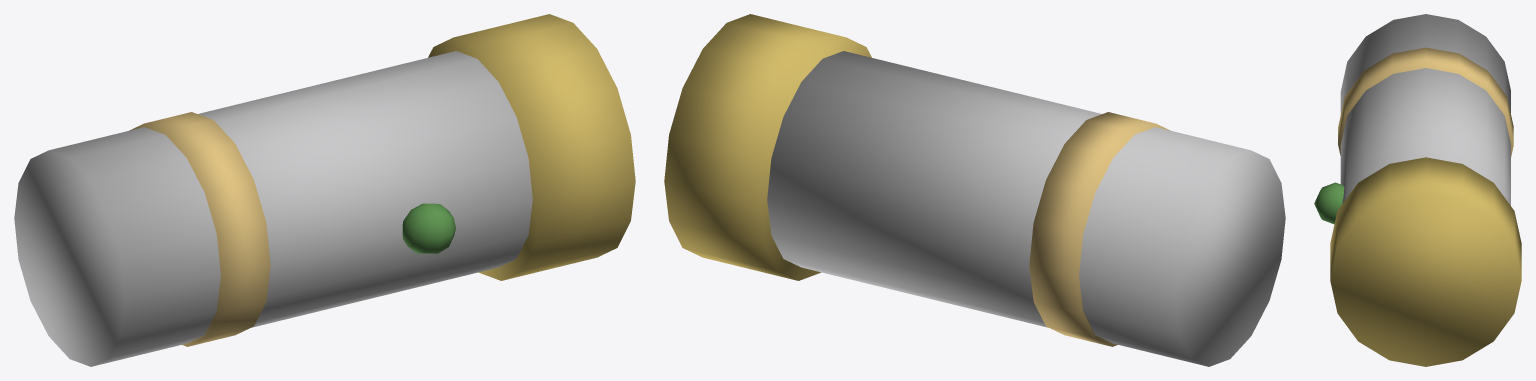
Rendered from Item_fuse_module.fbx.
The picture shows the model from 3 angles, left to right: view 1: azimuth 30°, elevation 25°; view 2: azimuth 150°, elevation 25°; view 3: azimuth 270°, elevation 25°; orthographic projection. The views are drawn at different scales.
Visible parts, largest first — view 1: model.015; view 2: model.015; view 3: model.015.
Part boxes in pixels (x1,y1,x2,y2): model.015: (14,14,635,366); model.015: (664,14,1285,366); model.015: (1314,14,1521,366).
Size of the model in its own units: 0.084 by 0.036 by 0.039.
